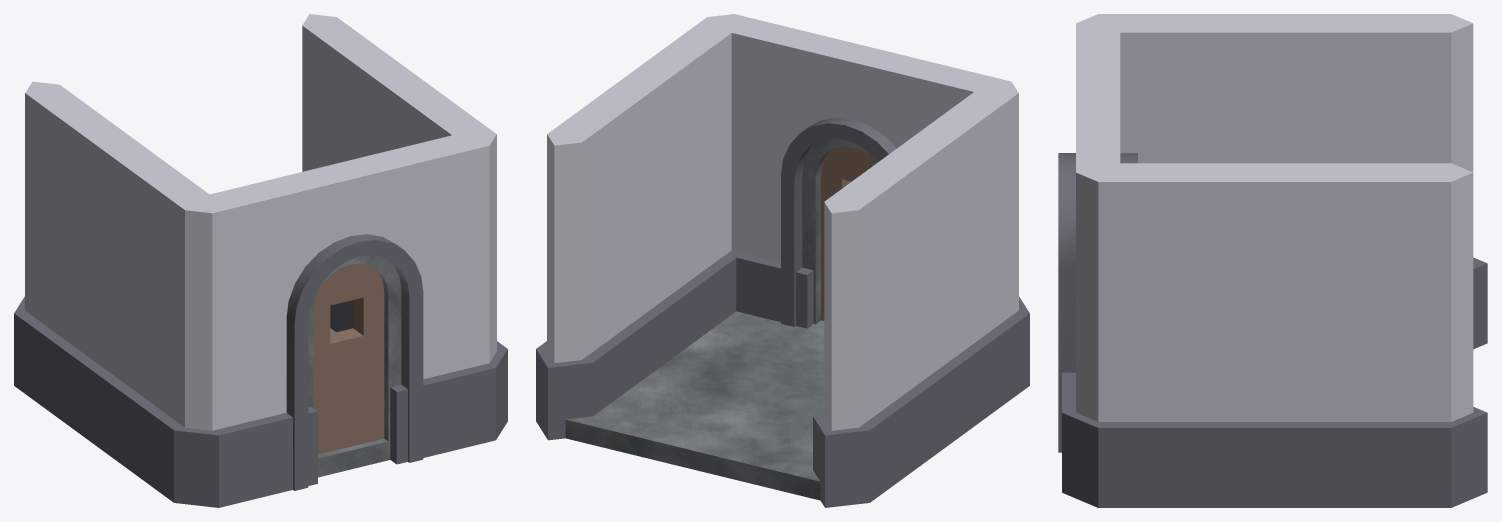
File: sm_hallway_end_03.fbx
3 renders of one model, left to right at view 1: azimuth 30°, elevation 25°; view 2: azimuth 150°, elevation 25°; view 3: azimuth 270°, elevation 25°, orthographic. The views are drawn at different scales.
Visible parts, largest first — view 1: door_01_183, wall_01_172, wall_01_176, floor_square_169; view 2: wall_01_172, wall_01_176, door_01_183, floor_square_169; view 3: wall_01_176, wall_01_172, door_01_183.
Part boxes in pixels (x1,y1,x2,y2): door_01_183: (174, 131, 507, 507); wall_01_172: (14, 81, 218, 507); wall_01_176: (302, 14, 507, 426); floor_square_169: (318, 328, 390, 477); wall_01_172: (813, 82, 1029, 507); wall_01_176: (536, 14, 742, 440); door_01_183: (708, 14, 1018, 328); floor_square_169: (565, 311, 824, 500); wall_01_176: (1062, 163, 1487, 507); wall_01_172: (1076, 14, 1487, 349); door_01_183: (1058, 14, 1137, 507).
Size of the model in its own units: 12.05 by 10 by 12.15.
